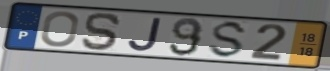2: (249, 23, 290, 63)
9: (168, 16, 204, 58)
J: (126, 17, 165, 53)
O: (39, 10, 81, 48)
S: (79, 11, 124, 53), (205, 19, 250, 60)
